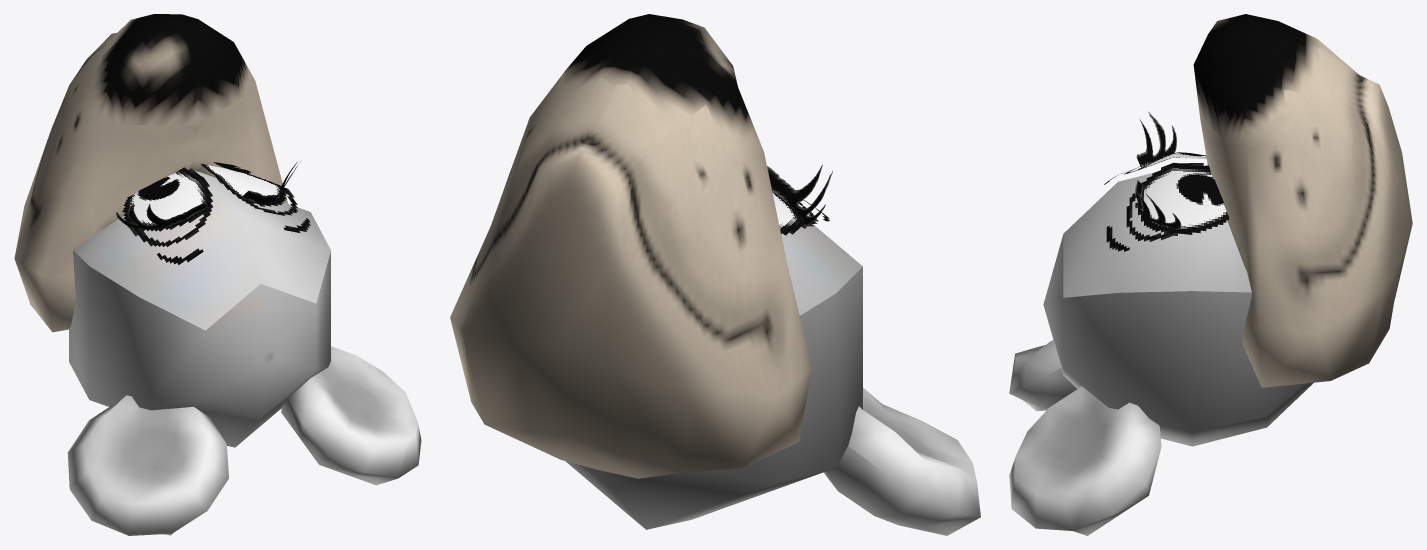
The model's file is bsl.glb.
The picture shows the model from 3 angles, left to right: view 1: azimuth 30°, elevation 25°; view 2: azimuth 150°, elevation 25°; view 3: azimuth 270°, elevation 25°; orthographic projection. The views are drawn at different scales.
Visible parts, largest first — view 1: muzzle-long-neutral, ears-short, head-short, head-front-short, eyes-short, eyelashes, joint_pupilL_short; view 2: muzzle-long-neutral, head-short, ears-short, head-front-short, eyelashes, eyes-short; view 3: muzzle-long-neutral, head-short, ears-short, head-front-short, eyes-short, eyelashes, joint_pupilR_short.
Part boxes in pixels (left/top/right/bottom): muzzle-long-neutral: left=14, top=14, right=287, bottom=332; ears-short: left=67, top=346, right=421, bottom=535; head-short: left=69, top=250, right=330, bottom=447; head-front-short: left=73, top=171, right=330, bottom=330; eyes-short: left=122, top=163, right=310, bottom=264; eyelashes: left=116, top=161, right=300, bottom=229; joint_pupilL_short: left=137, top=176, right=179, bottom=200; muzzle-long-neutral: left=450, top=14, right=811, bottom=478; head-short: left=566, top=267, right=862, bottom=529; ears-short: left=824, top=387, right=980, bottom=535; head-front-short: left=781, top=224, right=862, bottom=315; eyelashes: left=767, top=165, right=832, bottom=225; eyes-short: left=772, top=191, right=829, bottom=235; muzzle-long-neutral: left=1193, top=14, right=1412, bottom=387; head-short: left=1043, top=235, right=1313, bottom=446; ears-short: left=1009, top=340, right=1161, bottom=535; head-front-short: left=1063, top=172, right=1251, bottom=297; eyes-short: left=1104, top=153, right=1229, bottom=251; eyelashes: left=1135, top=111, right=1181, bottom=229; joint_pupilR_short: left=1176, top=172, right=1224, bottom=205.
Size of the model in its own units: 1.3 by 1.55 by 1.28.
6 materials, 6 textured.
